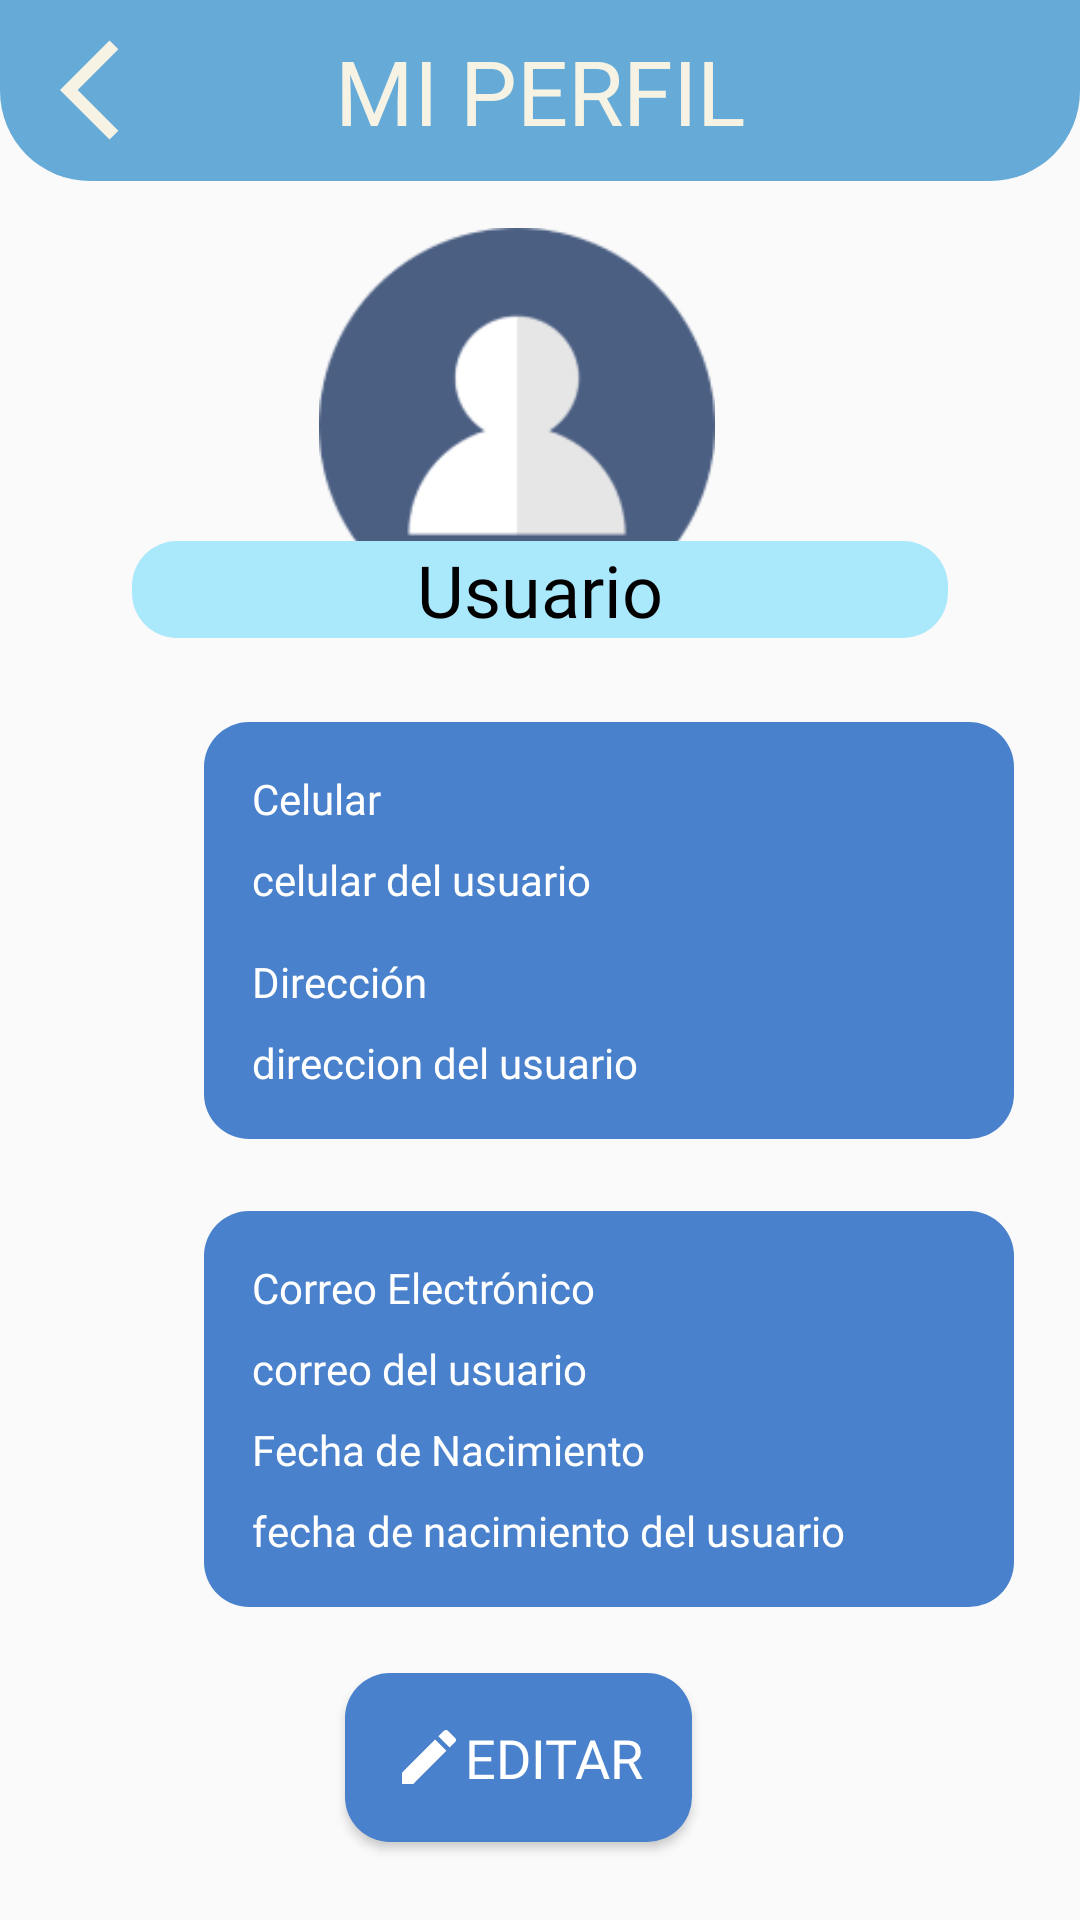

Icon bounding boxes for this 1080px×1920px phone screenshot, format (x1, y1, x2, y2):
back arrow: (60, 40, 118, 140)
